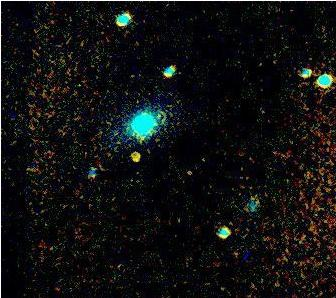star: (121, 137, 151, 167)
